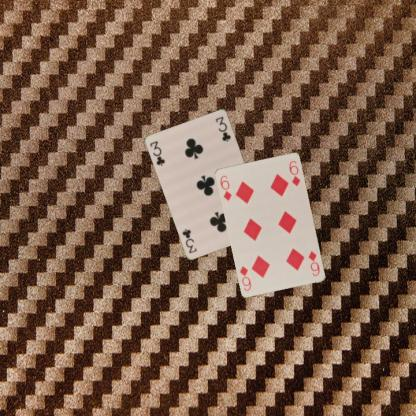3c: (148, 138, 166, 167)
6d: (306, 248, 321, 278), (218, 173, 233, 202)
